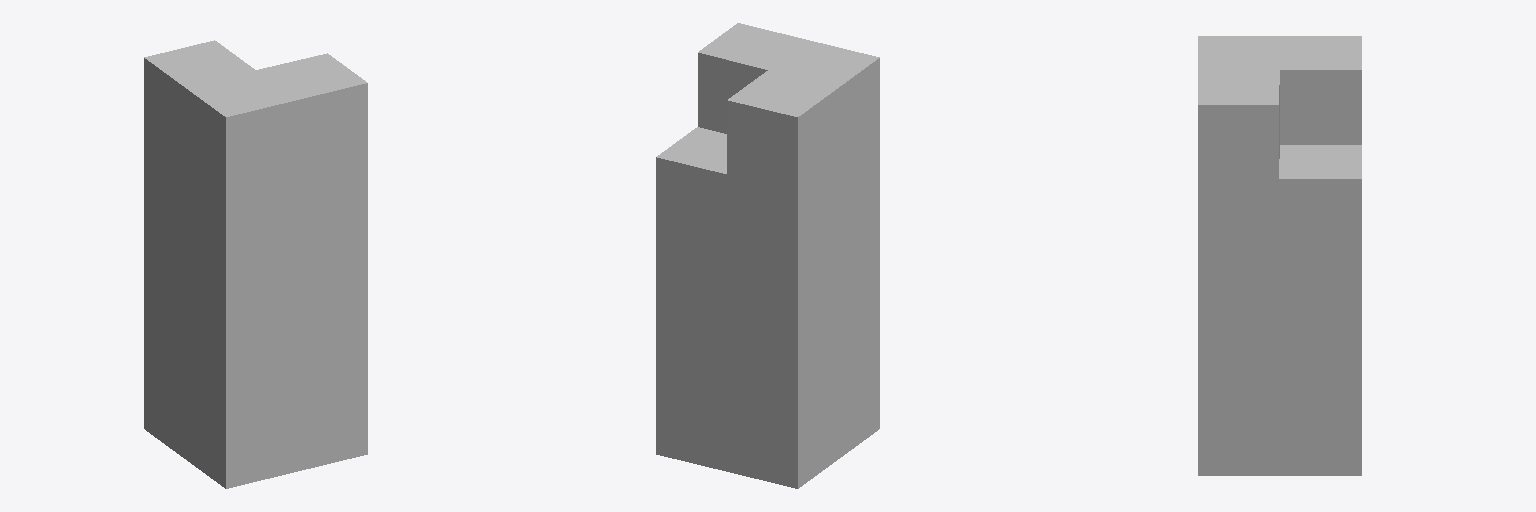
The model's file is Corner7.obj.
3 renders of one model, left to right at view 1: azimuth 30°, elevation 25°; view 2: azimuth 150°, elevation 25°; view 3: azimuth 270°, elevation 25°, orthographic.
Parts seen in each view (by area): view 1: Corner7; view 2: Corner7; view 3: Corner7.
Boxes of the visible parts, box(x1,y1,x2,y2) form: Corner7: box(144, 40, 367, 488); Corner7: box(656, 23, 879, 488); Corner7: box(1198, 36, 1361, 475).
Size of the model in its own units: 2 by 5 by 2.